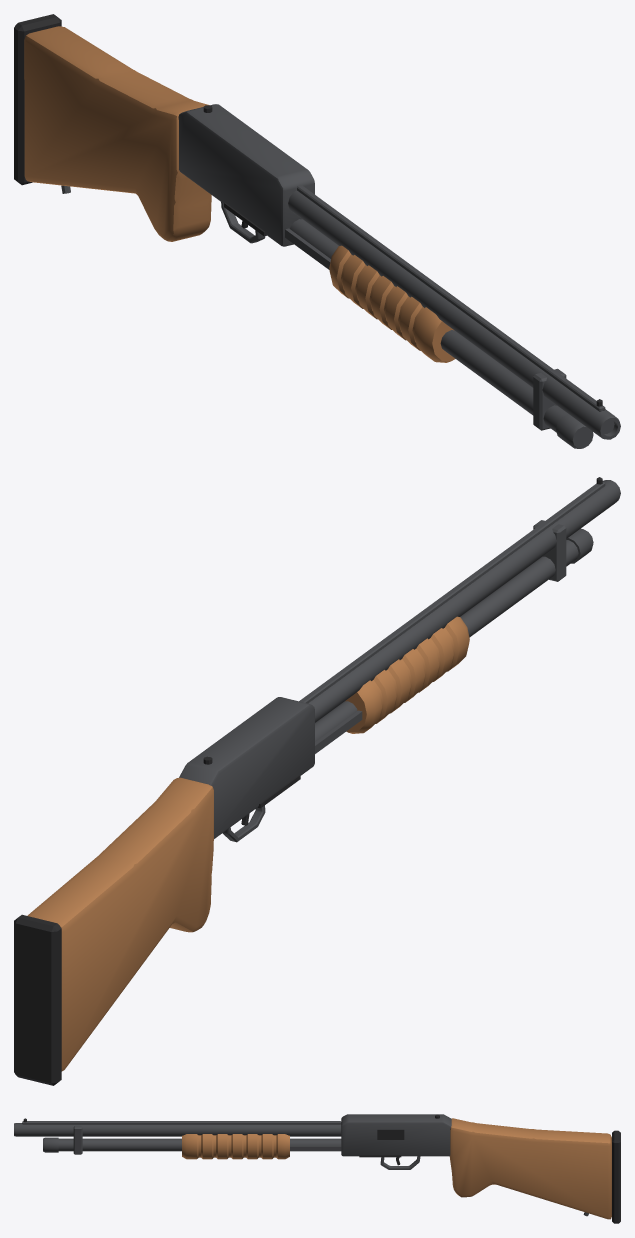
The model's file is PropShotgun.fbx.
3 renders of one model, top to bottom at view 1: azimuth 30°, elevation 25°; view 2: azimuth 150°, elevation 25°; view 3: azimuth 270°, elevation 25°, orthographic. The views are drawn at different scales.
Visible parts, largest first — view 1: PropShotgun_Mesh; view 2: PropShotgun_Mesh; view 3: PropShotgun_Mesh.
Part boxes in pixels (bbox=[...]): PropShotgun_Mesh: bbox=[14, 14, 620, 448]; PropShotgun_Mesh: bbox=[14, 477, 620, 1085]; PropShotgun_Mesh: bbox=[14, 1114, 620, 1223].
Size of the model in its own units: 0.046 by 0.19 by 1.01.
